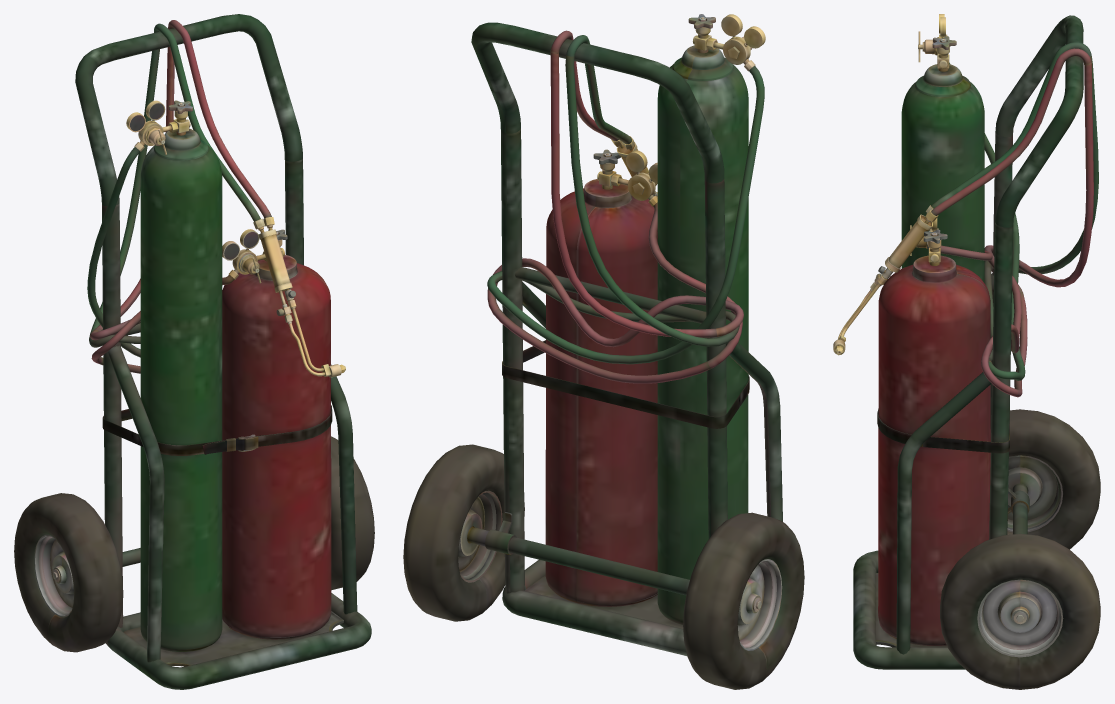
The model's file is welding_cart.glb.
The picture shows the model from 3 angles, left to right: view 1: azimuth 30°, elevation 25°; view 2: azimuth 150°, elevation 25°; view 3: azimuth 270°, elevation 25°; orthographic projection. The views are drawn at different scales.
Visible parts, largest first — view 1: portable_welding_cart; view 2: portable_welding_cart; view 3: portable_welding_cart.
Part boxes in pixels (<box>): portable_welding_cart: <box>14,14,374,689</box>; portable_welding_cart: <box>403,14,804,689</box>; portable_welding_cart: <box>833,14,1100,689</box>.
Size of the model in its own units: 0.8383 by 1.56 by 0.6549.
Materials: 2 (2 with a texture image).
